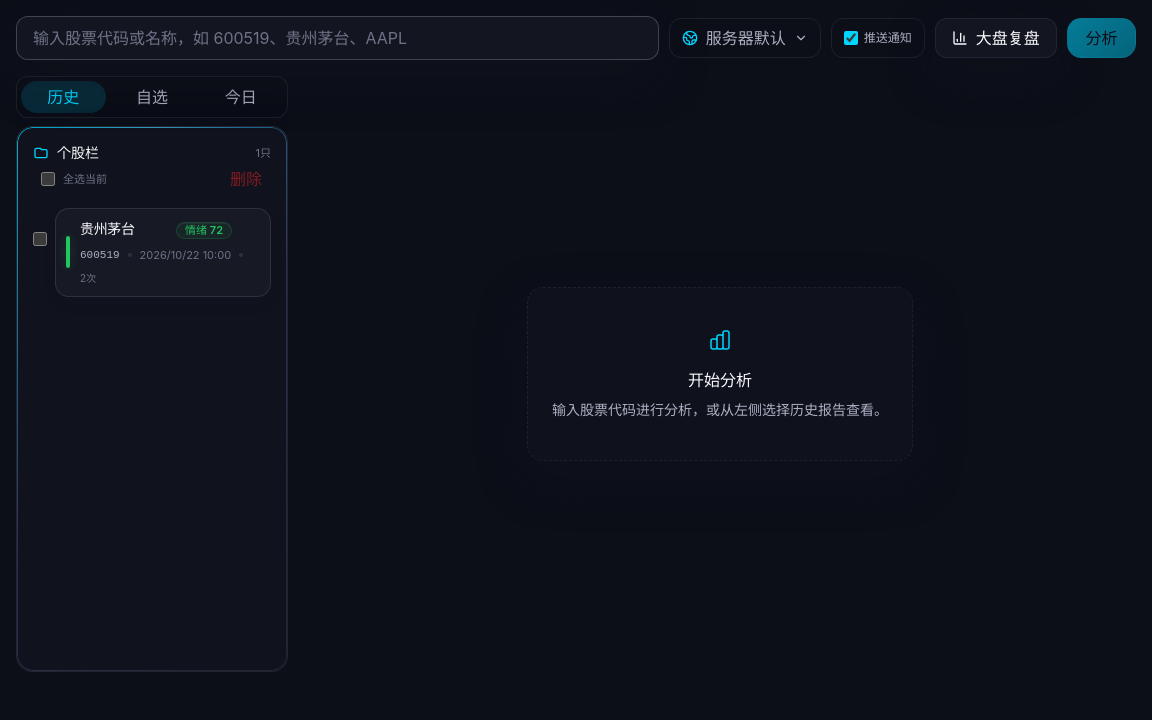
HomePage › loads the Today ranking from paginated history instead of the capped stock bar
This screenshot has width=1152, height=720.
Click the button "今日" at coordinates (241, 97), box [198,81,283,113]
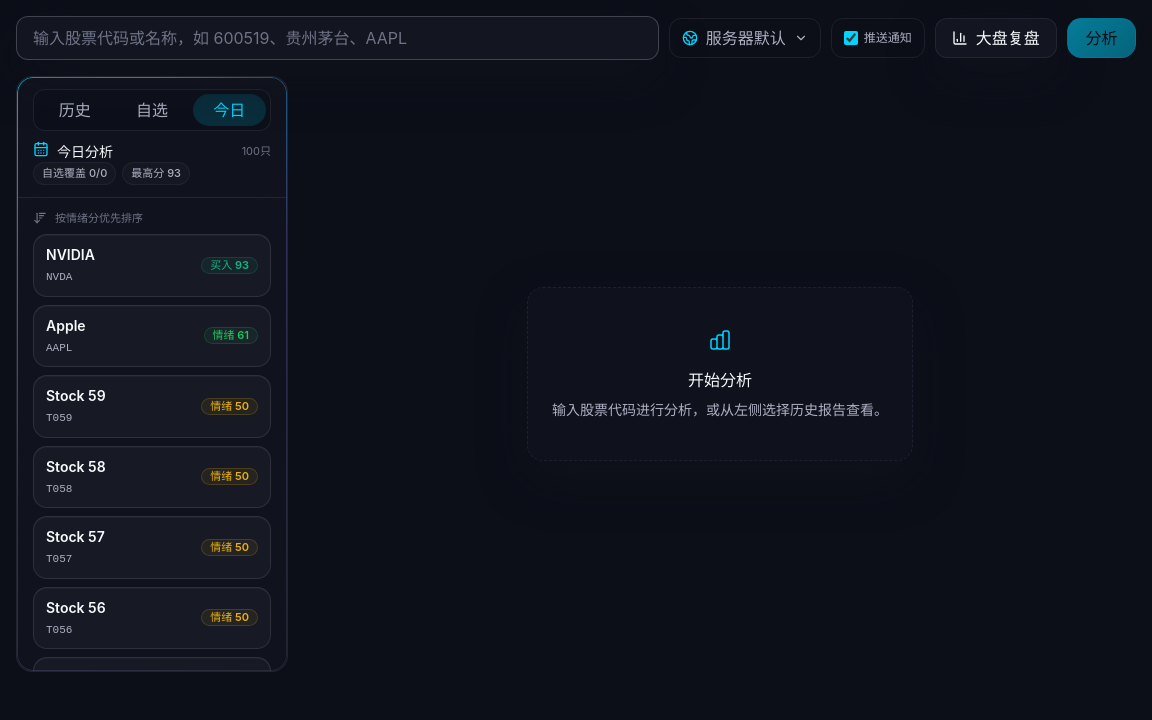
Expected: the button "NVIDIA NVDA 买入 93" is shown, [33,234,271,296]
